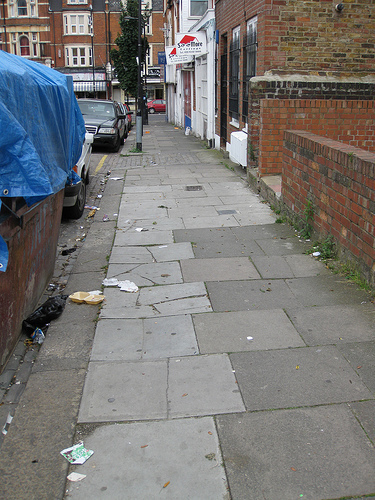litter: (20, 293, 68, 345), (60, 444, 94, 465), (65, 290, 105, 305), (101, 277, 137, 293), (64, 472, 86, 483), (105, 173, 121, 180)
